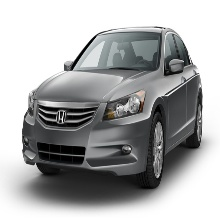no damage: (22, 27, 204, 188)
